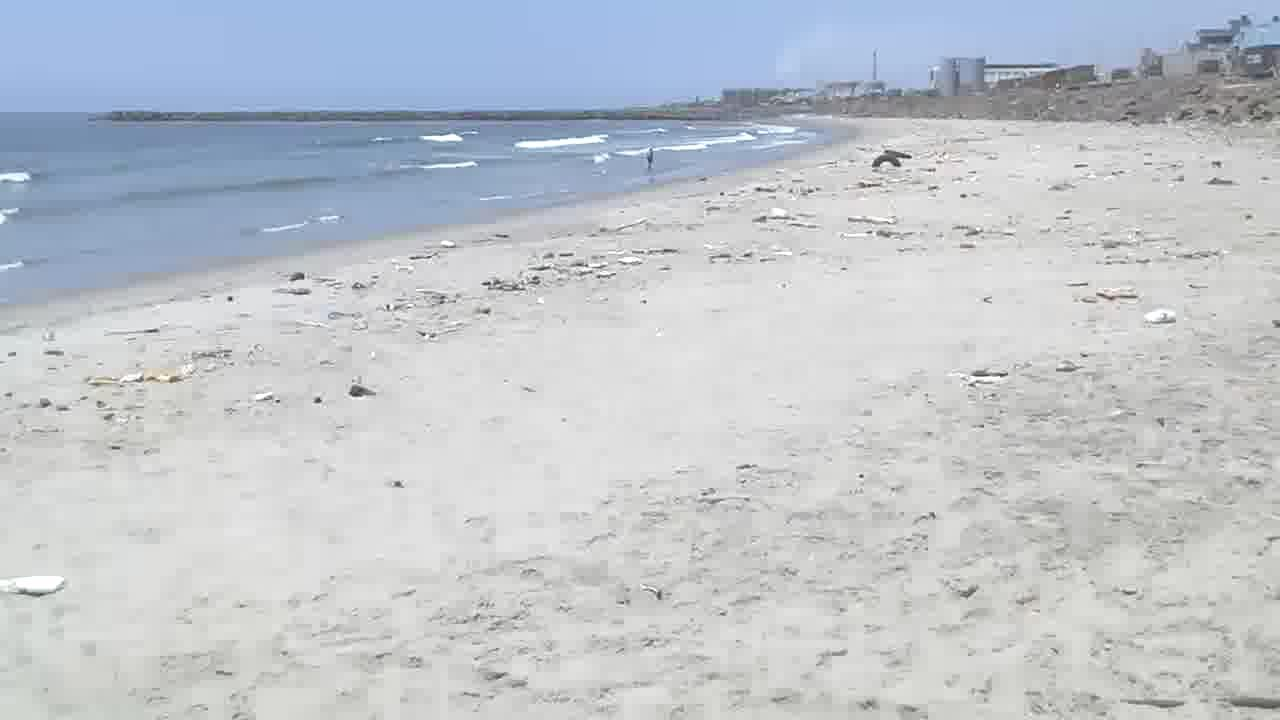obj: (1, 571, 68, 599), (1095, 284, 1138, 300), (348, 380, 378, 398), (1144, 310, 1176, 324), (871, 156, 902, 167)
sand/background: (1, 0, 1279, 346)
